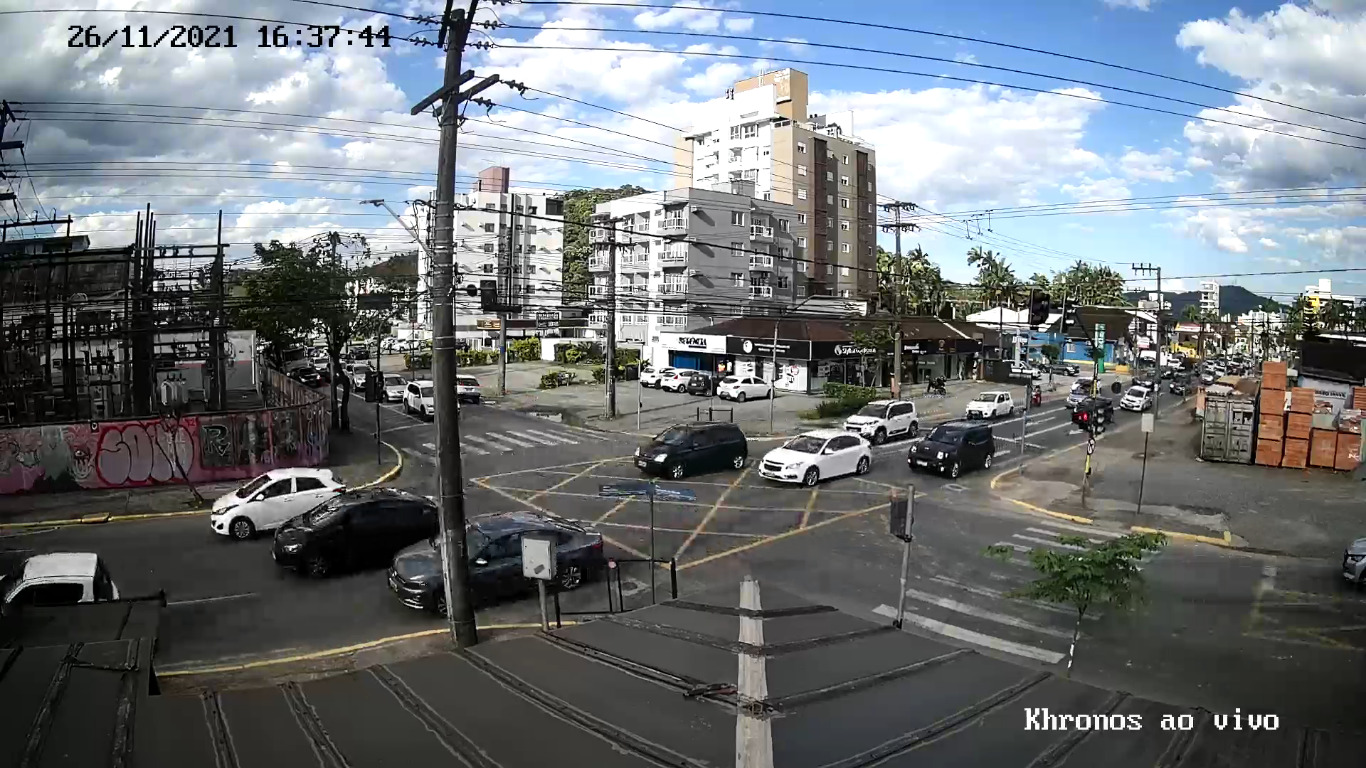car: (386, 511, 606, 619), (269, 486, 466, 581), (208, 466, 347, 541), (758, 427, 874, 487), (632, 420, 749, 478), (906, 419, 996, 478)
